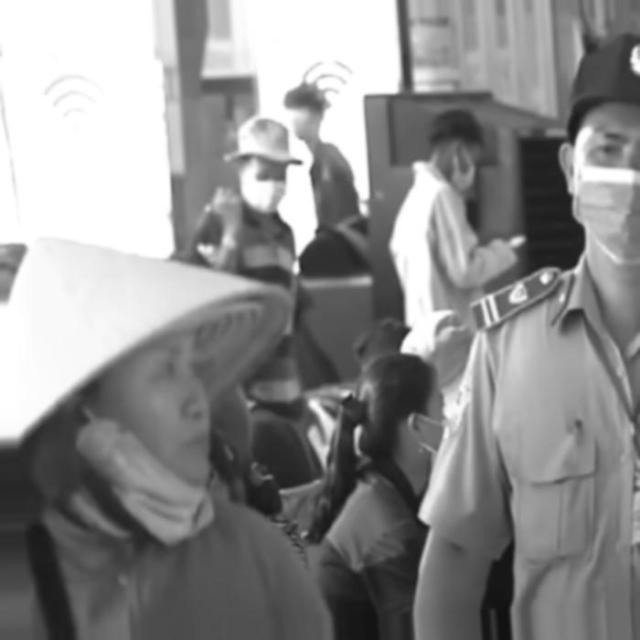hairnet: (82, 381, 208, 539)
